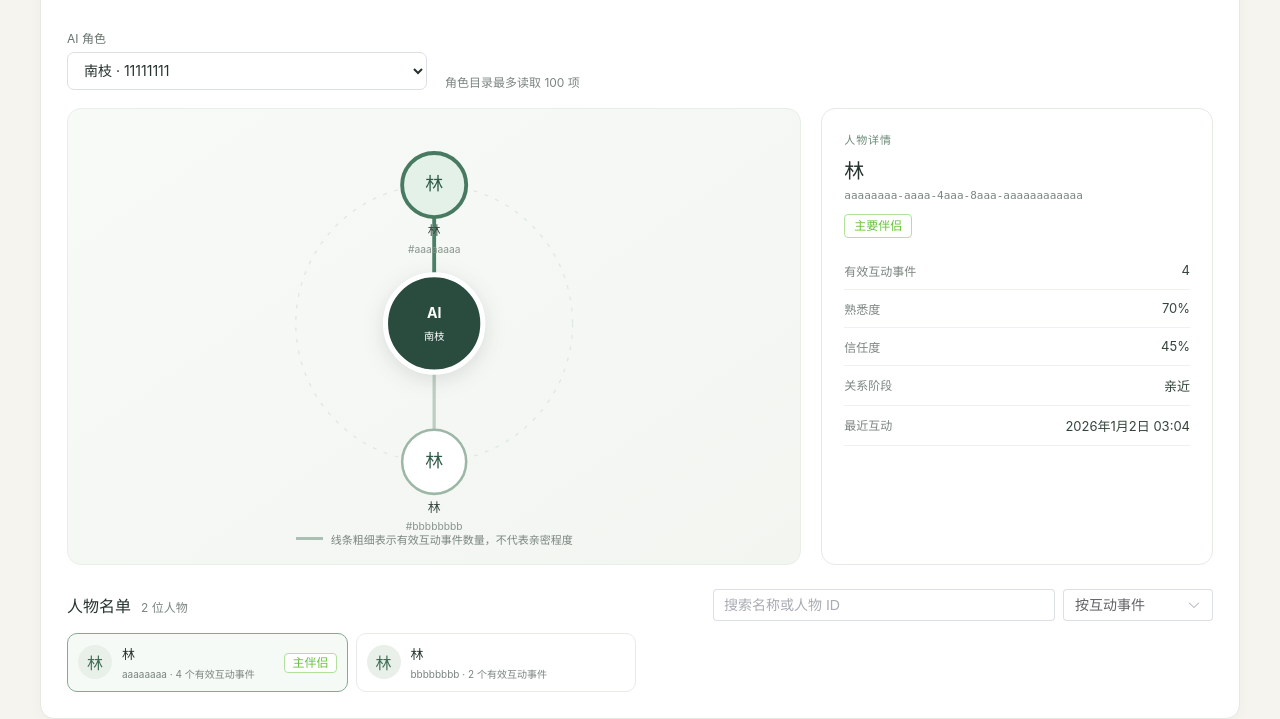
Test: RelationshipGraphPanel › loads characters and graph, then shows selectable detail and percent values
(page scrolled)
Click the button "林 林 bbbbbbbb · 2 个有效互动事件".
click(384, 662)  # box x1=356 y1=633 x2=636 y2=692
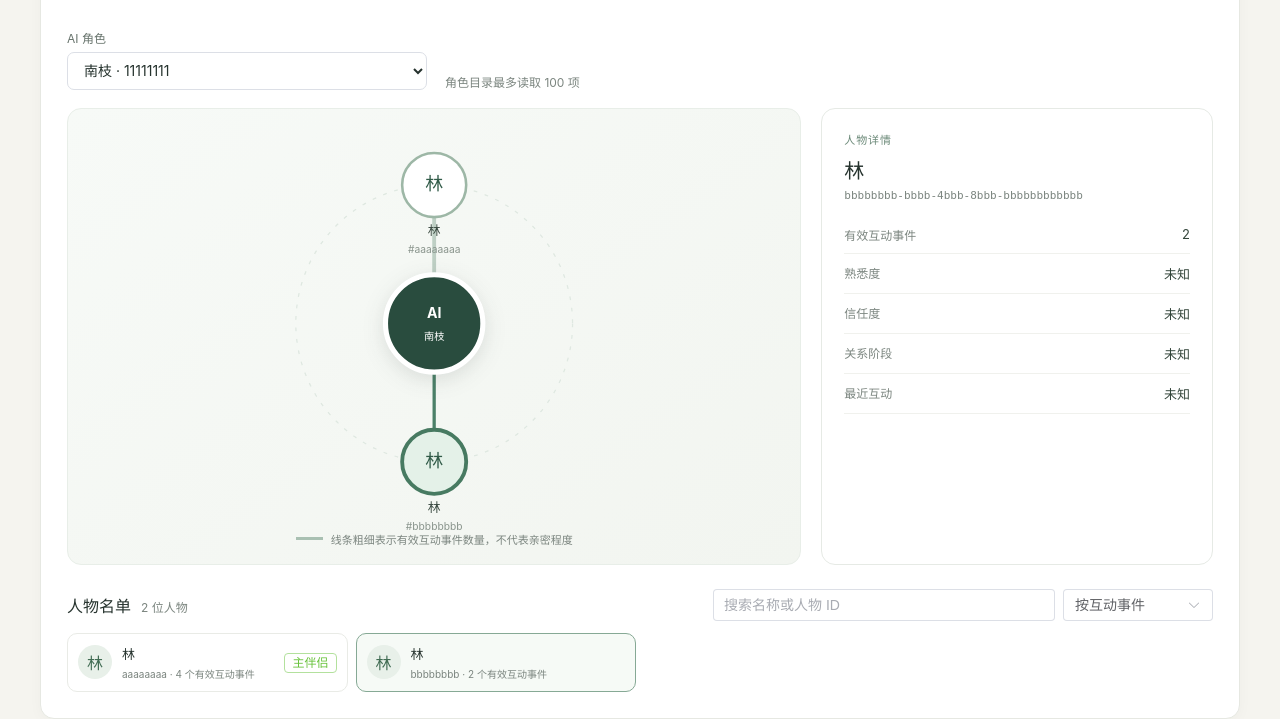
Expected: the text "bbbbbbbb-bbbb-4bbb-8bbb-bbbbbbbbbbbb" is shown, x1=844 y1=189 x2=1083 y2=202
Expected: the text "未知" is shown, x1=1164 y1=264 x2=1190 y2=283
